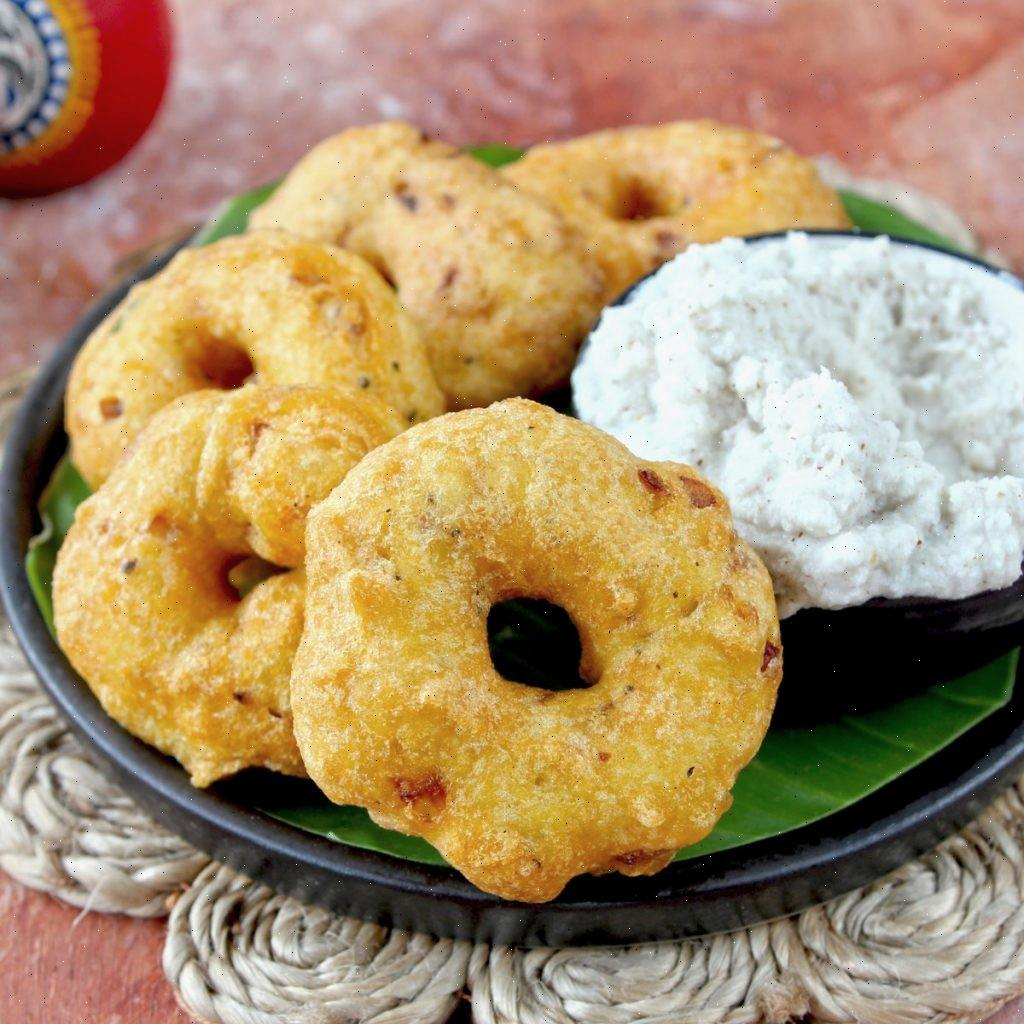medu vada: (35, 292, 577, 909)
